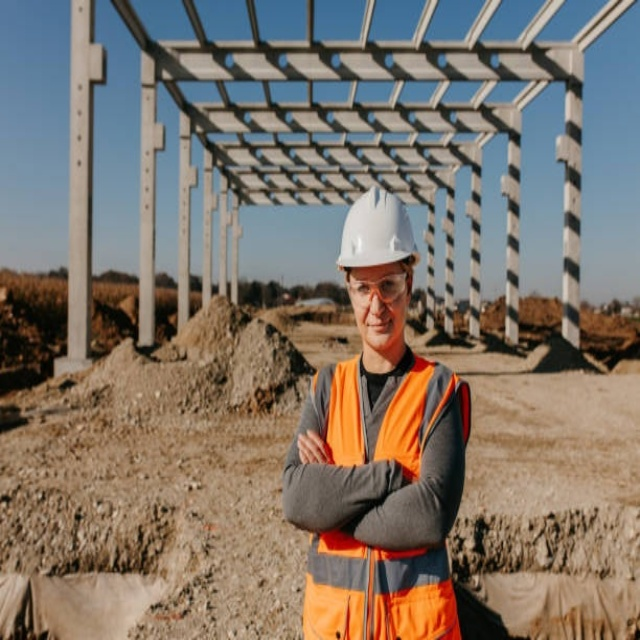Gafas: (348, 270, 410, 303)
Sin_guantes: (298, 427, 334, 467)
Sin_mascara: (361, 314, 394, 347)
